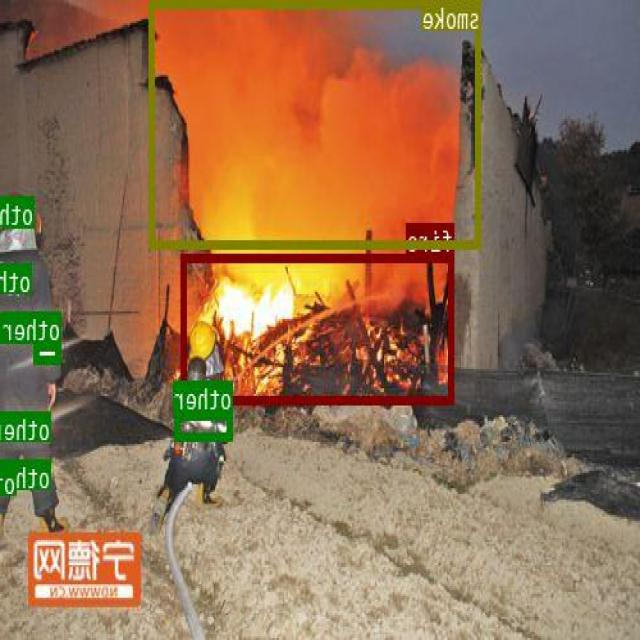fire: (182, 254, 454, 402)
other: (176, 410, 234, 439), (10, 411, 52, 440), (5, 196, 35, 226), (3, 262, 32, 290), (3, 314, 36, 336), (27, 458, 52, 485), (35, 341, 62, 363), (2, 464, 18, 481)
smoke: (150, 0, 482, 246)
